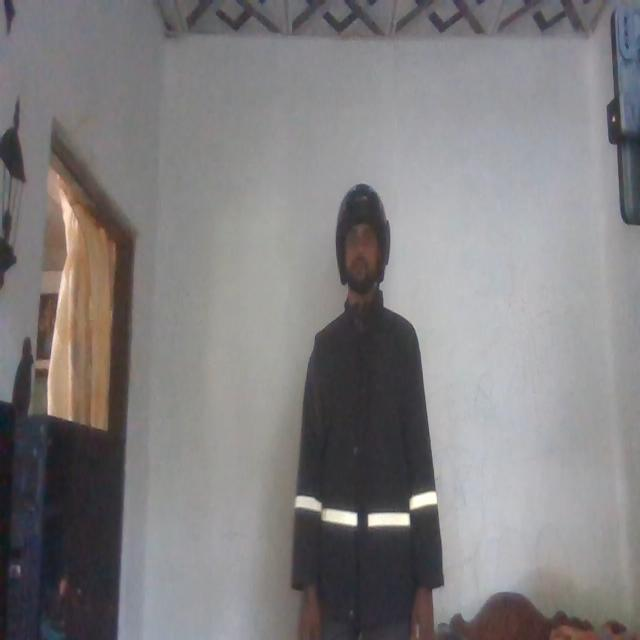Helmet_Wearer: (324, 177, 402, 314)
Jacket_Wearer: (294, 304, 448, 613)
Person: (289, 178, 443, 640)
